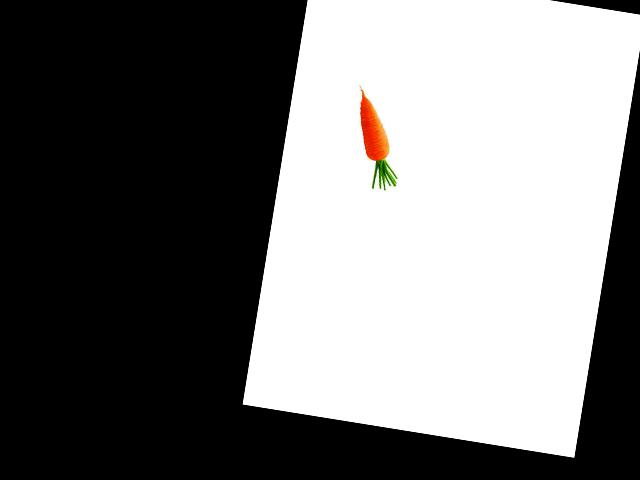carrot: (350, 85, 401, 152)
